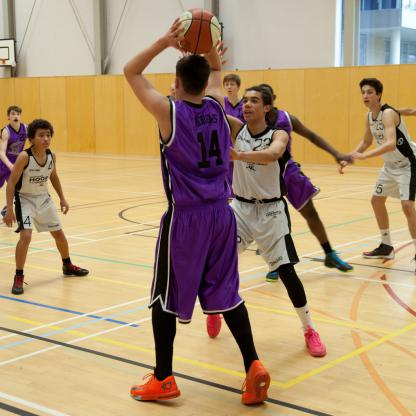Ball: (174, 8, 221, 55)
